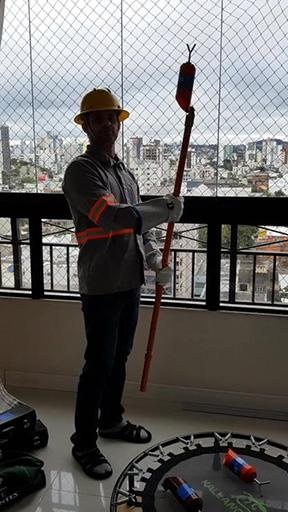Detector_Tensao_Contato: (223, 449, 270, 495), (175, 42, 197, 114)
Vara_Manobra: (139, 111, 195, 391)
